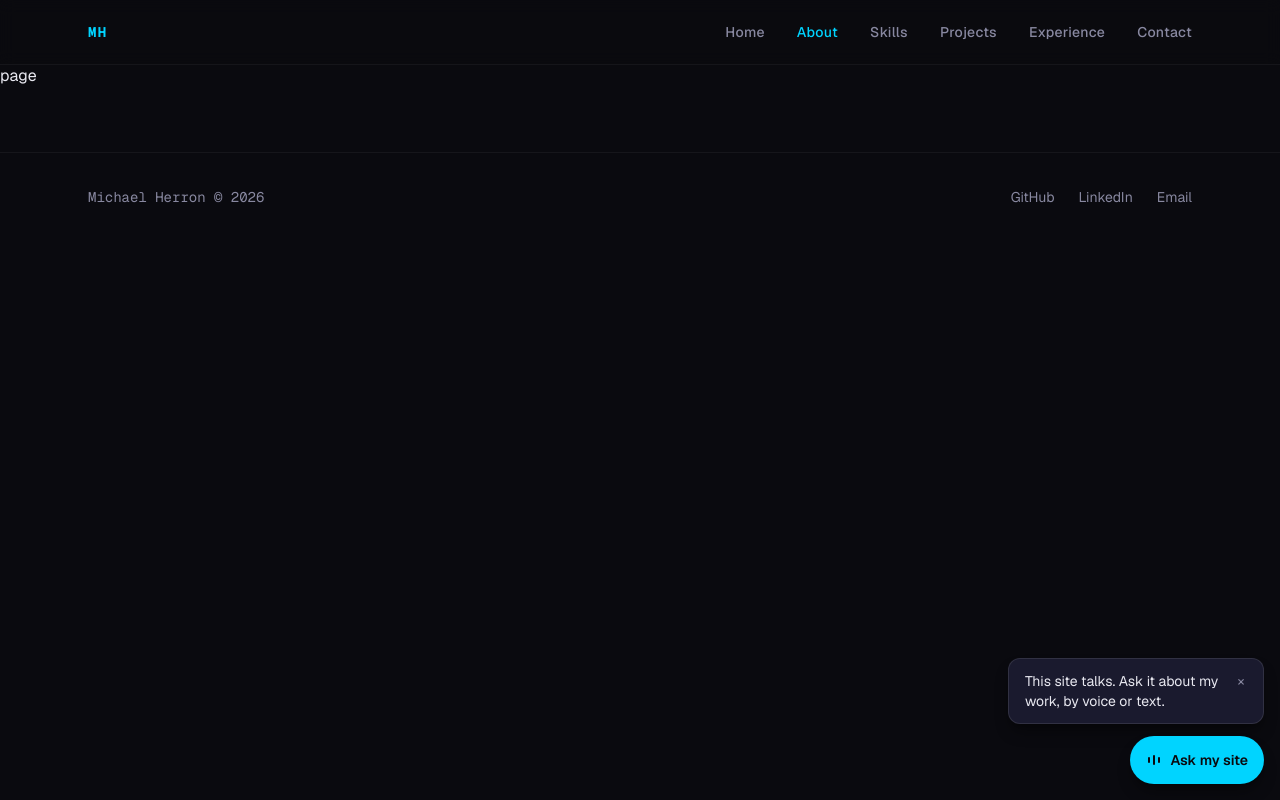
Test: the concierge panel, open › is one dialog, named, not modal
Click the button "Ask my site": [1197, 760] box [1130,736,1264,784]
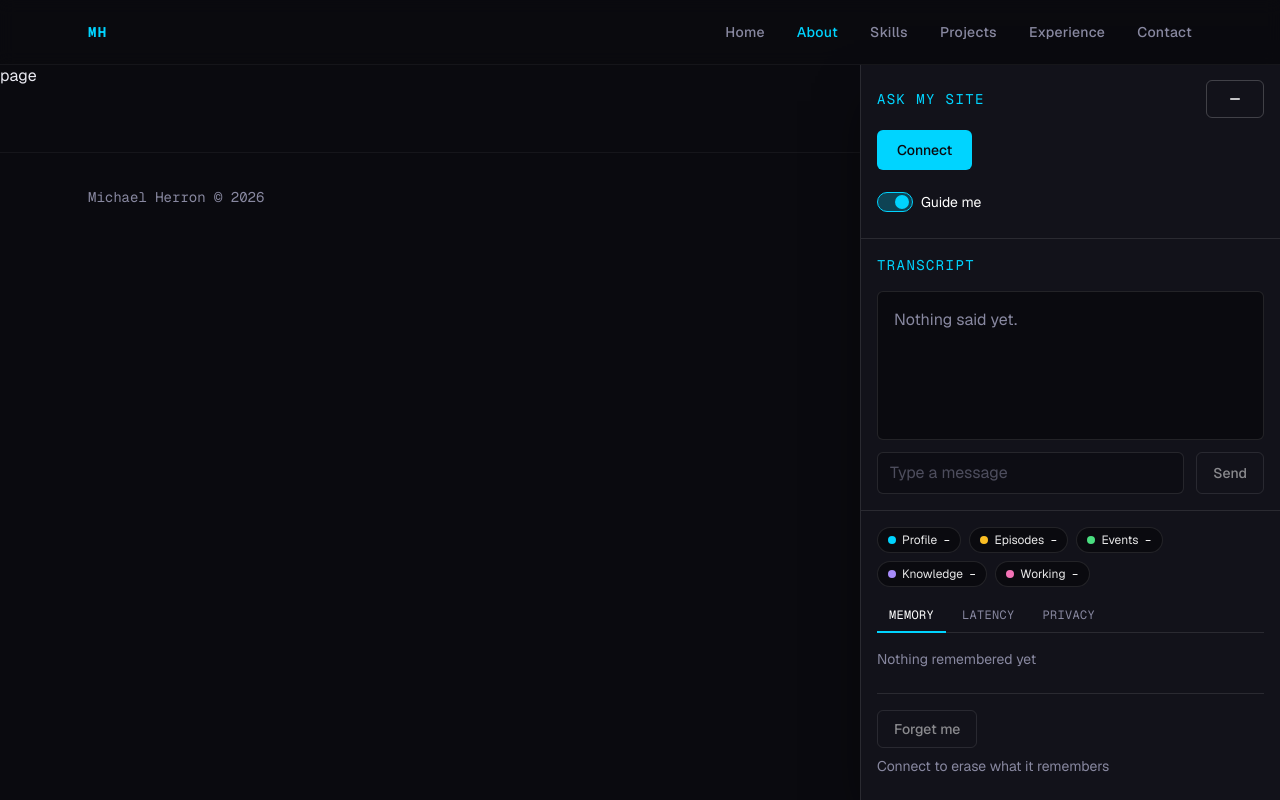
Expected: the number of dialogs is 1, [860,64,1279,799]
